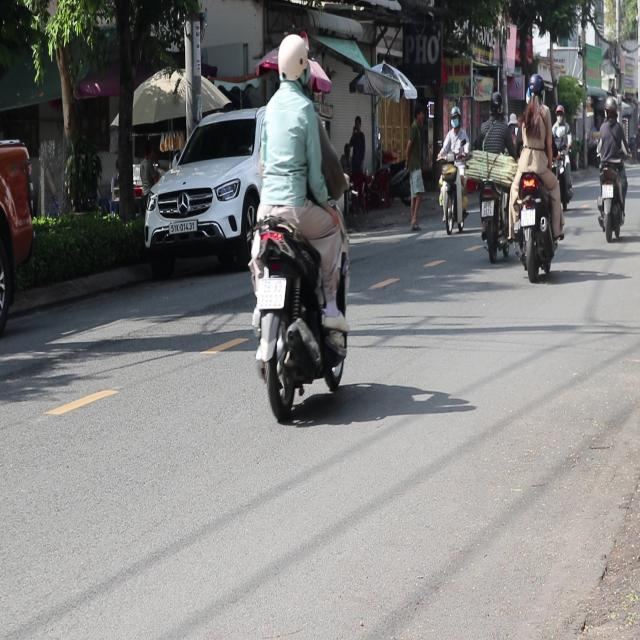helmet: (276, 32, 310, 91), (527, 72, 544, 100), (489, 90, 503, 116)
licenseplate: (241, 29, 354, 420), (510, 70, 565, 280), (475, 89, 517, 261)
nohelmet: (258, 278, 286, 309), (520, 209, 535, 225), (481, 200, 494, 215)
